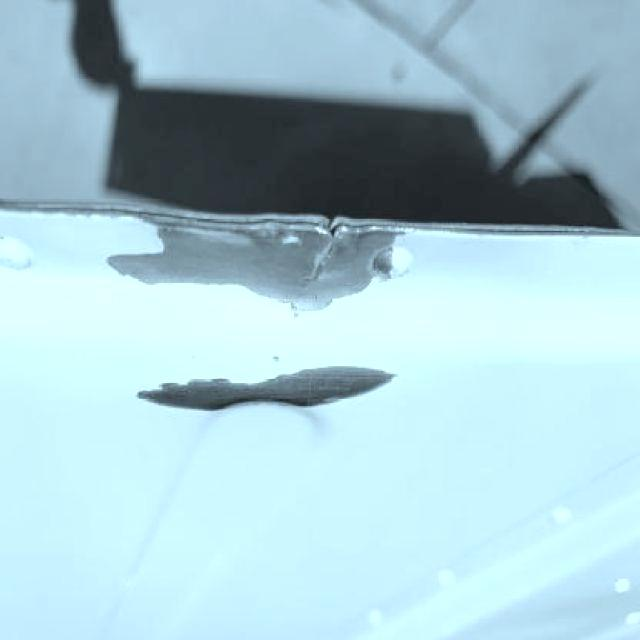crack: (287, 232, 355, 289)
